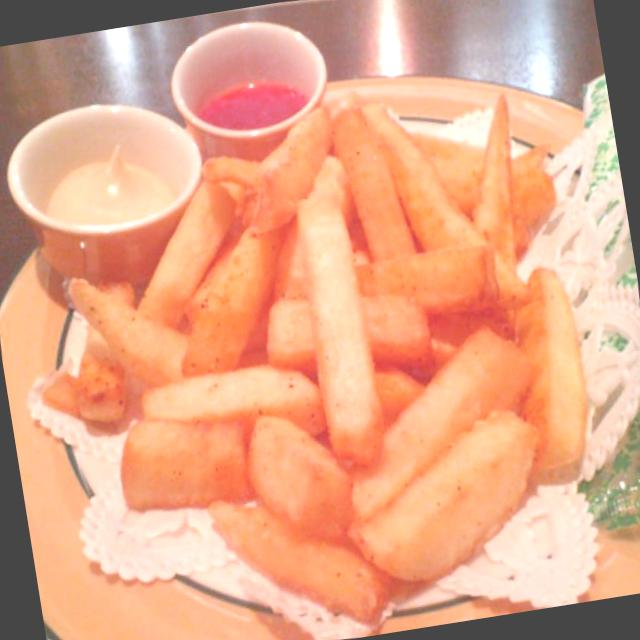French Fries: (26, 62, 626, 617)
